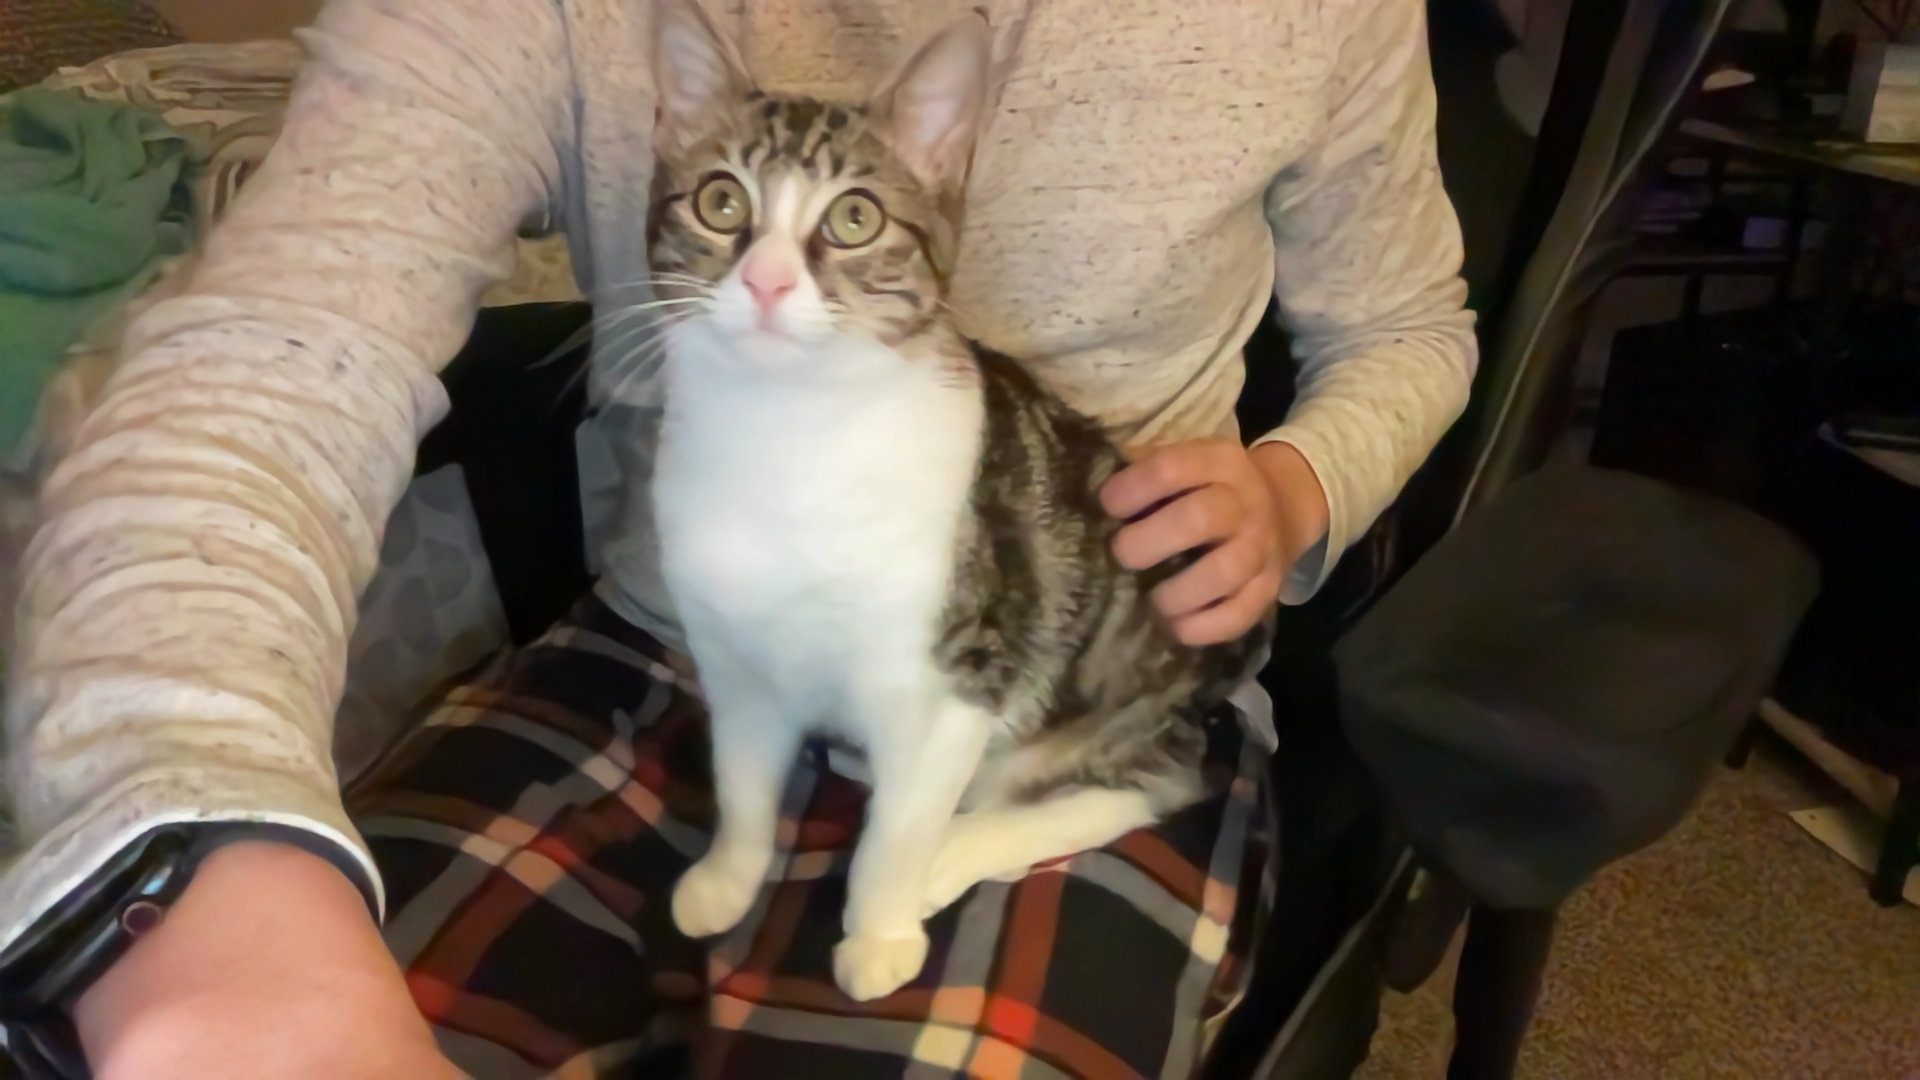cat: (589, 4, 1224, 1007)
